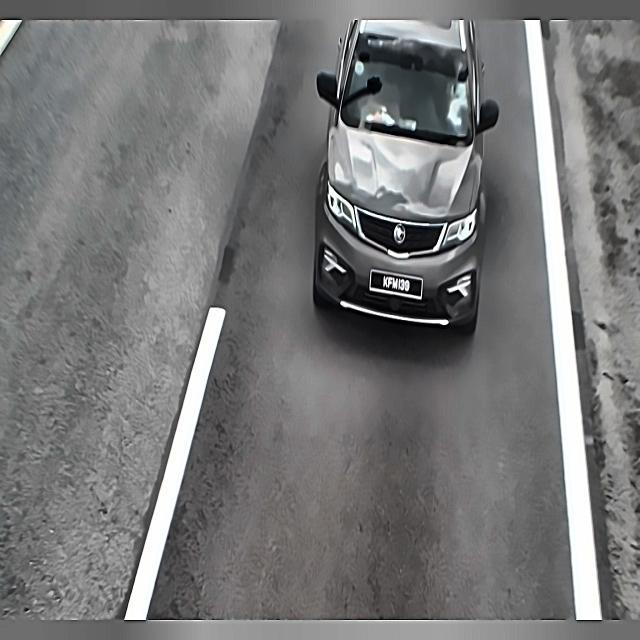car: (366, 263, 426, 306)
